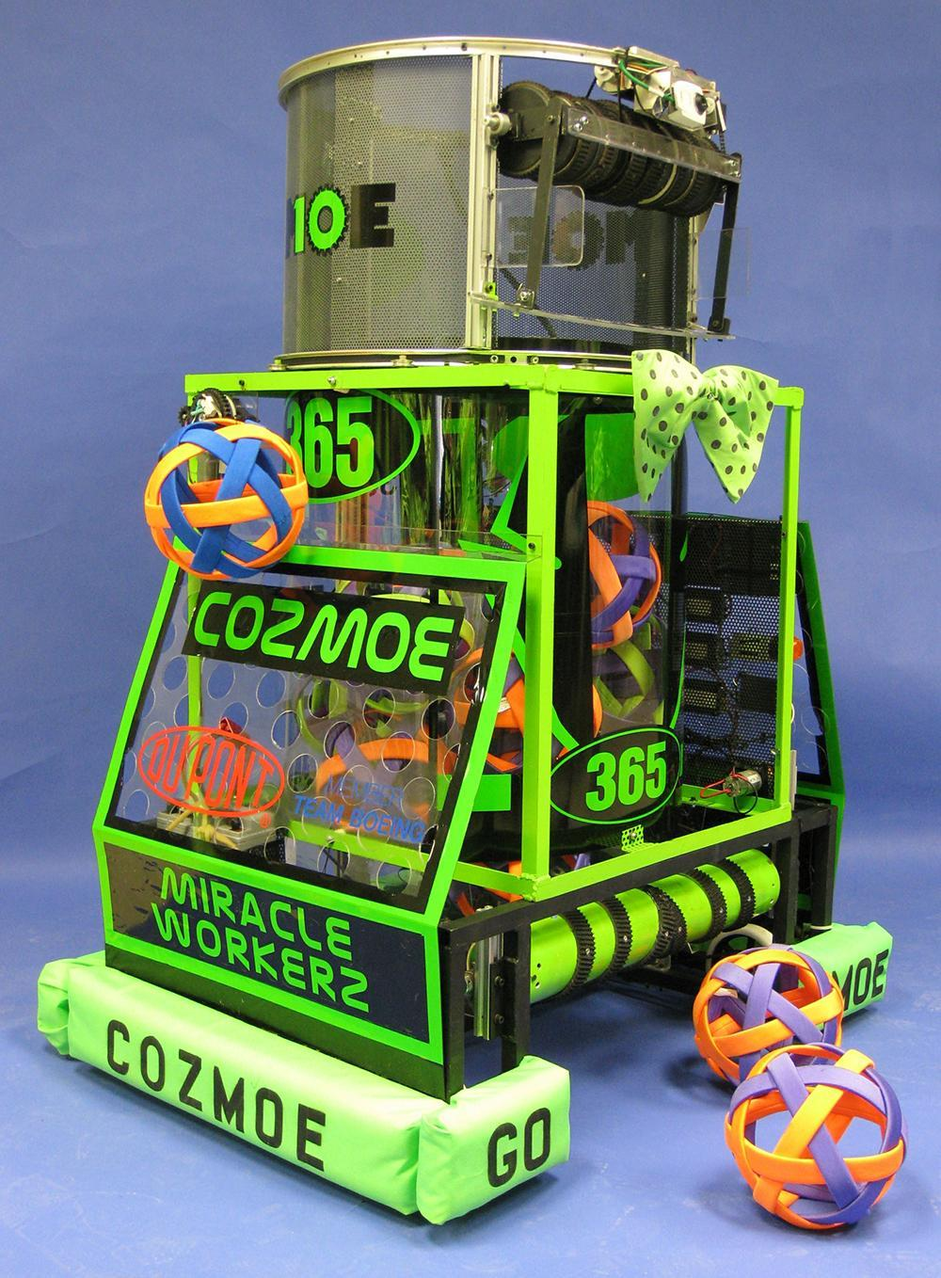robot: (26, 21, 894, 1240)
